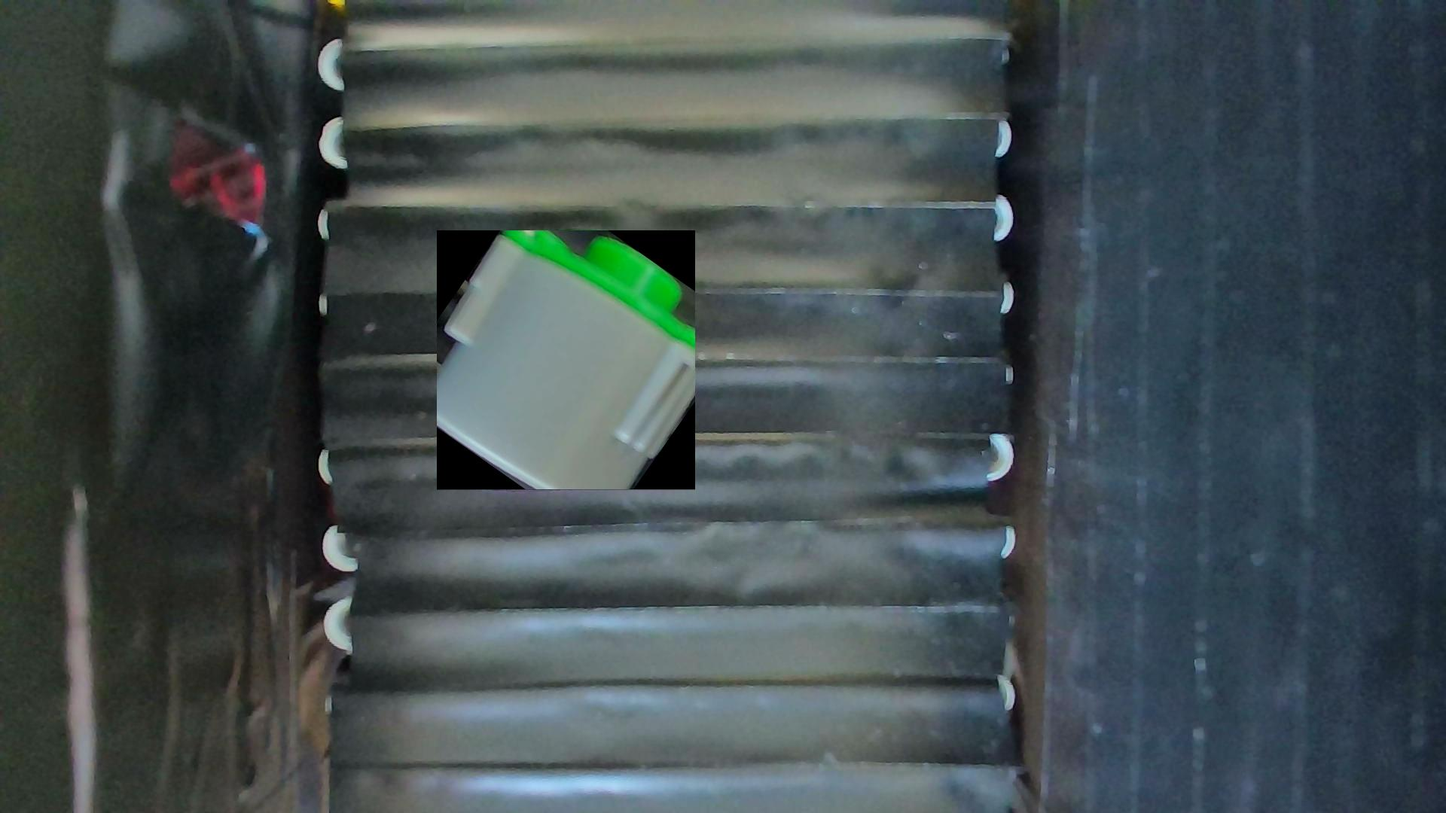cartridge: (437, 231, 695, 491)
